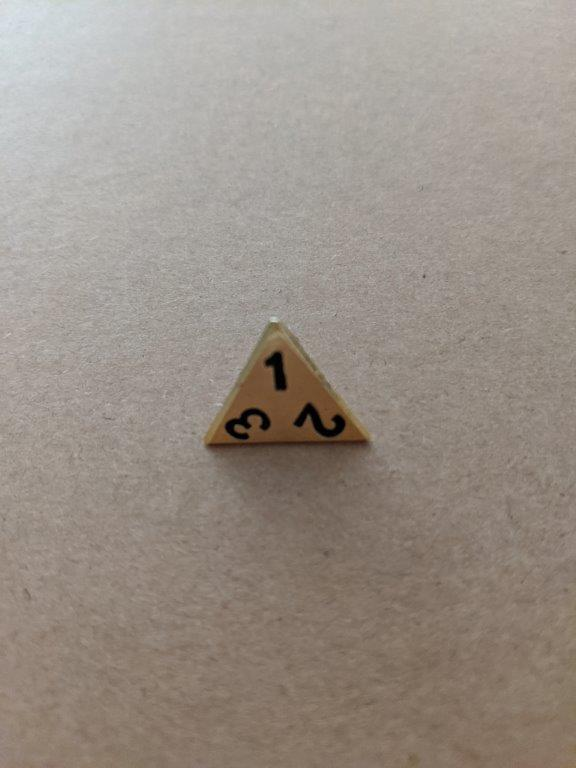d4-1: (192, 314, 374, 454)
